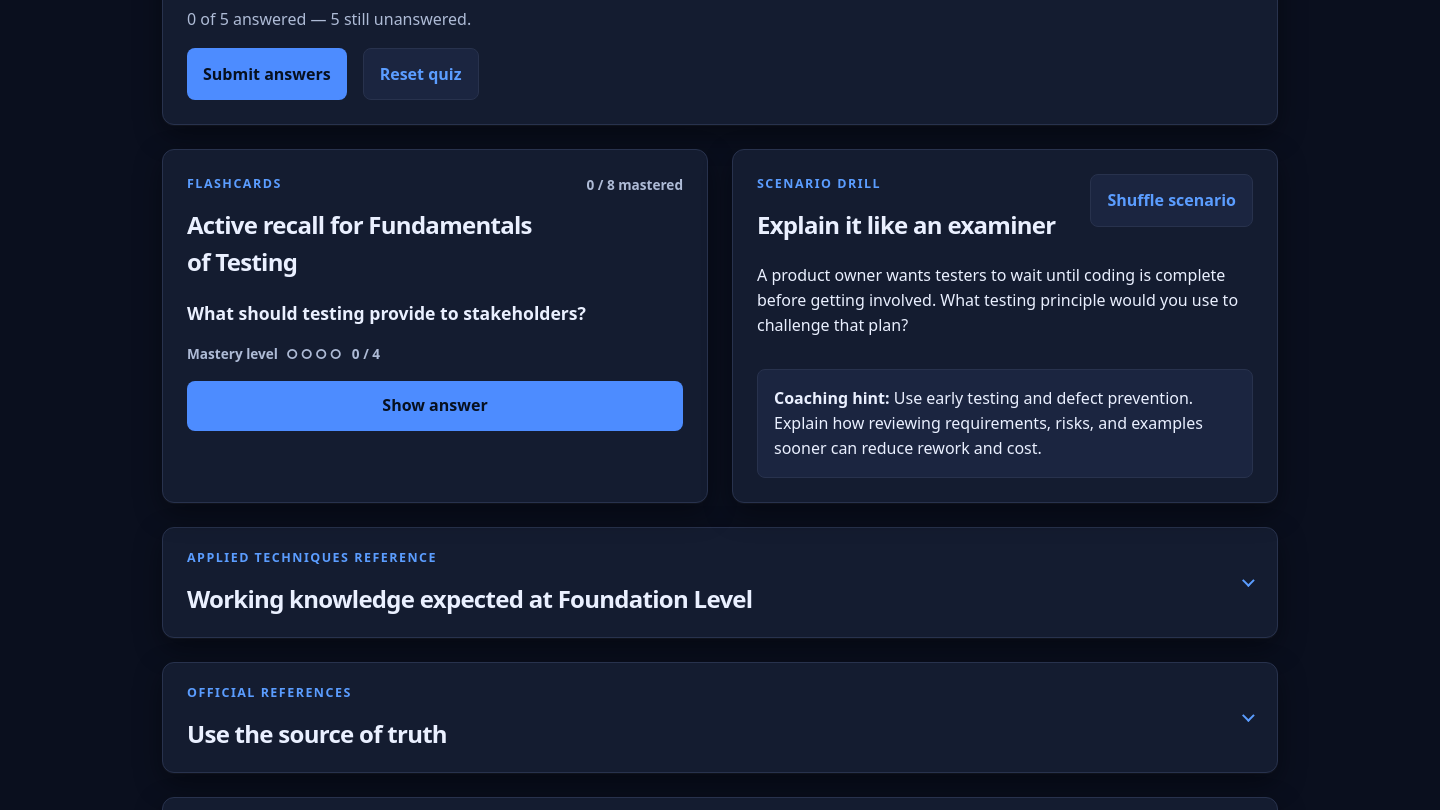
Test: App › quiz interaction › reveals the flashcard answer only after Show answer is clicked
The width and height of the screenshot is (1440, 810).
(page scrolled)
Expected: the text "What should testing provide to stakeholders?" is shown, [187,301,586,325]
Click the button "Show answer" at coordinates (435, 406), box [187,380,683,431]
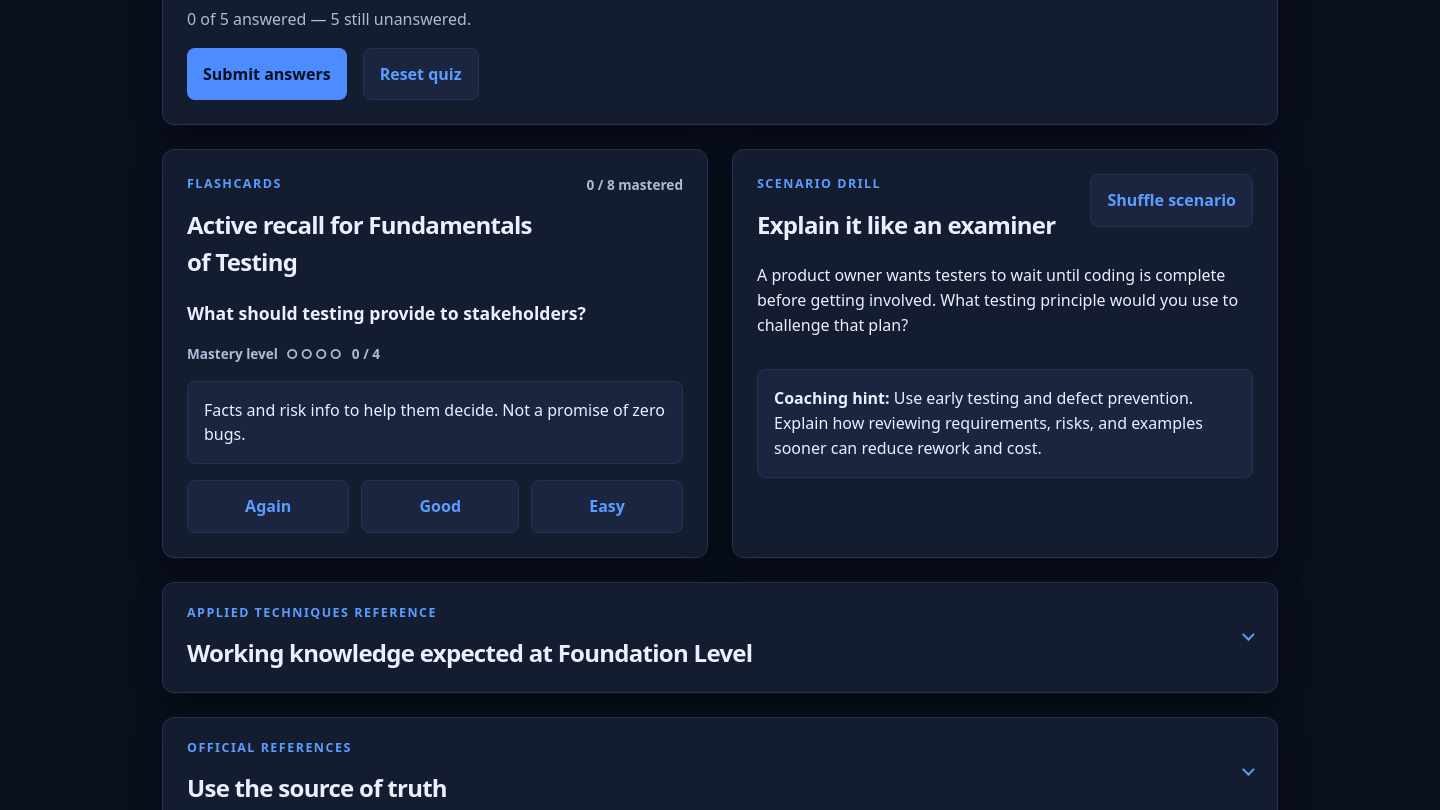
Expected: the text with test id "flashcard-answer" is shown, [187,380,683,464]
Expected: the element named "Rate your recall" is shown, [187,480,683,532]
